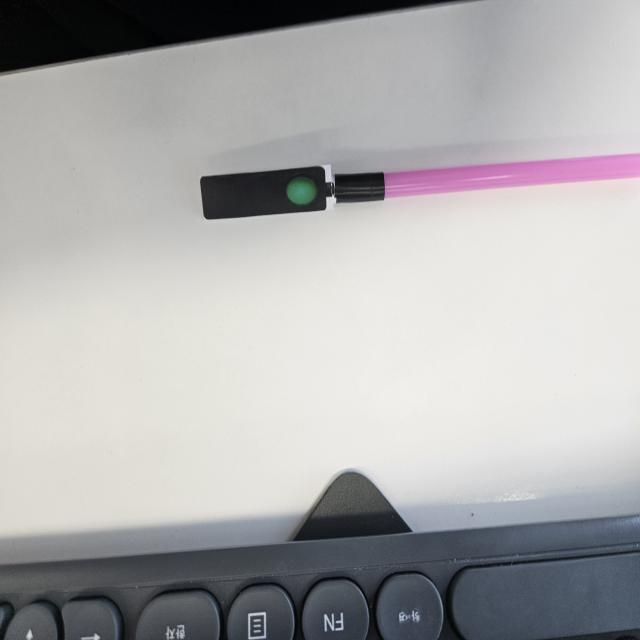traffic light: (200, 165, 339, 221)
